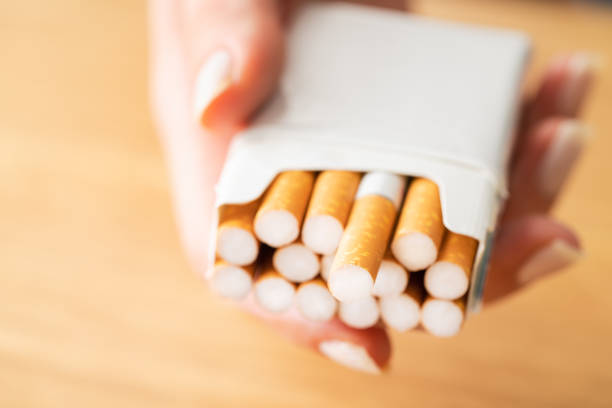cigarette: (207, 0, 538, 338), (328, 173, 408, 305), (387, 177, 445, 274), (250, 168, 316, 249), (300, 171, 362, 257), (422, 230, 479, 300), (216, 205, 261, 266), (377, 279, 423, 332), (271, 244, 320, 282), (253, 270, 298, 311), (371, 248, 409, 296), (297, 278, 338, 321), (422, 298, 466, 338), (214, 261, 255, 299), (337, 296, 377, 330)
